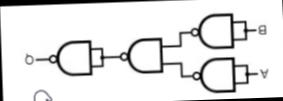nand: (189, 54, 238, 96), (117, 34, 164, 76), (47, 36, 93, 78), (188, 10, 234, 51)
